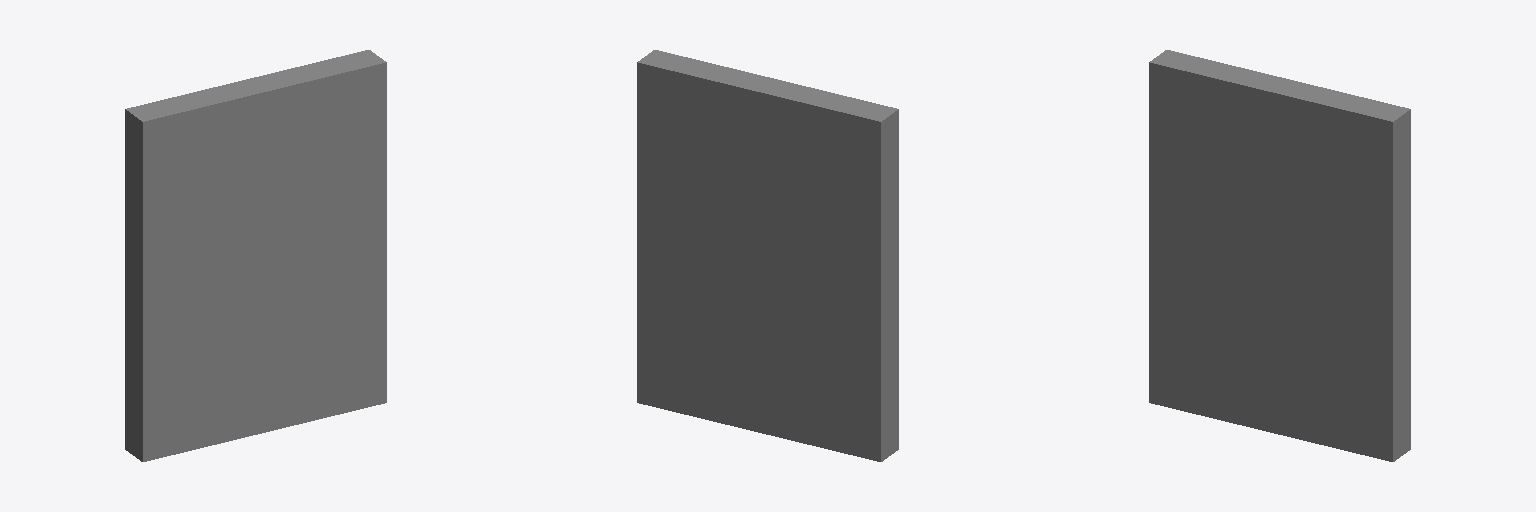
Rendered from hcmwdoorsuperdouble.obj.
The picture shows the model from 3 angles: view 1: azimuth 30°, elevation 25°; view 2: azimuth 150°, elevation 25°; view 3: azimuth 330°, elevation 25°; orthographic projection.
Visible parts, largest first — view 1: Box001; view 2: Box001; view 3: Box001.
Boxes of the visible parts, x1,y1,x2,y2 form: Box001: [125, 50, 386, 461]; Box001: [637, 50, 898, 461]; Box001: [1149, 50, 1410, 461].
Size of the model in its own units: 1.5 by 2 by 0.1875.